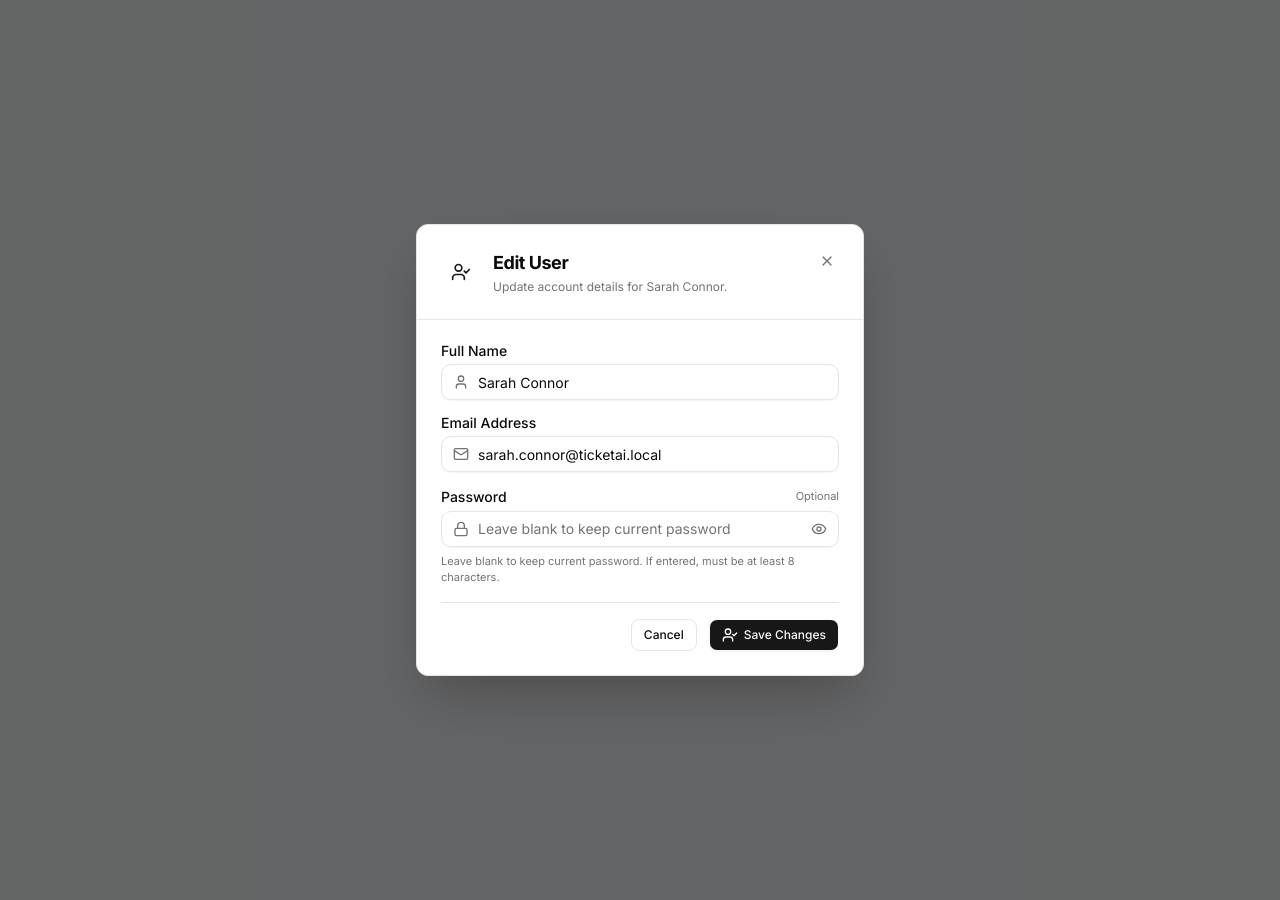
Scenario: EditUserModal Component Tests › 2. Form Validation Rules › shows error when password is typed but shorter than 8 characters
In the password field labelled "Password": [640, 529] box [441,511,839,547], type "12345"
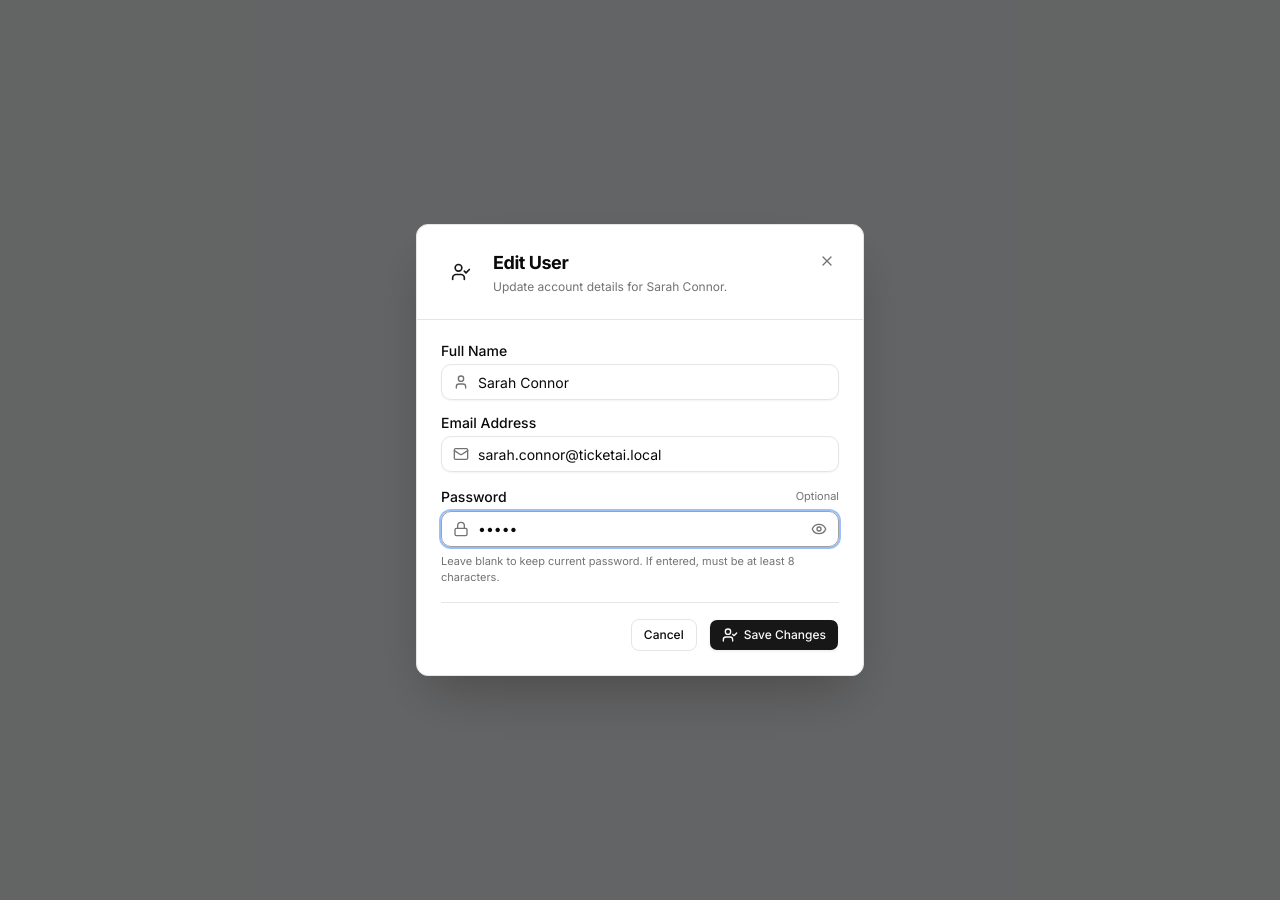
Click the button "Save Changes": [774, 635] box [709,619,839,651]
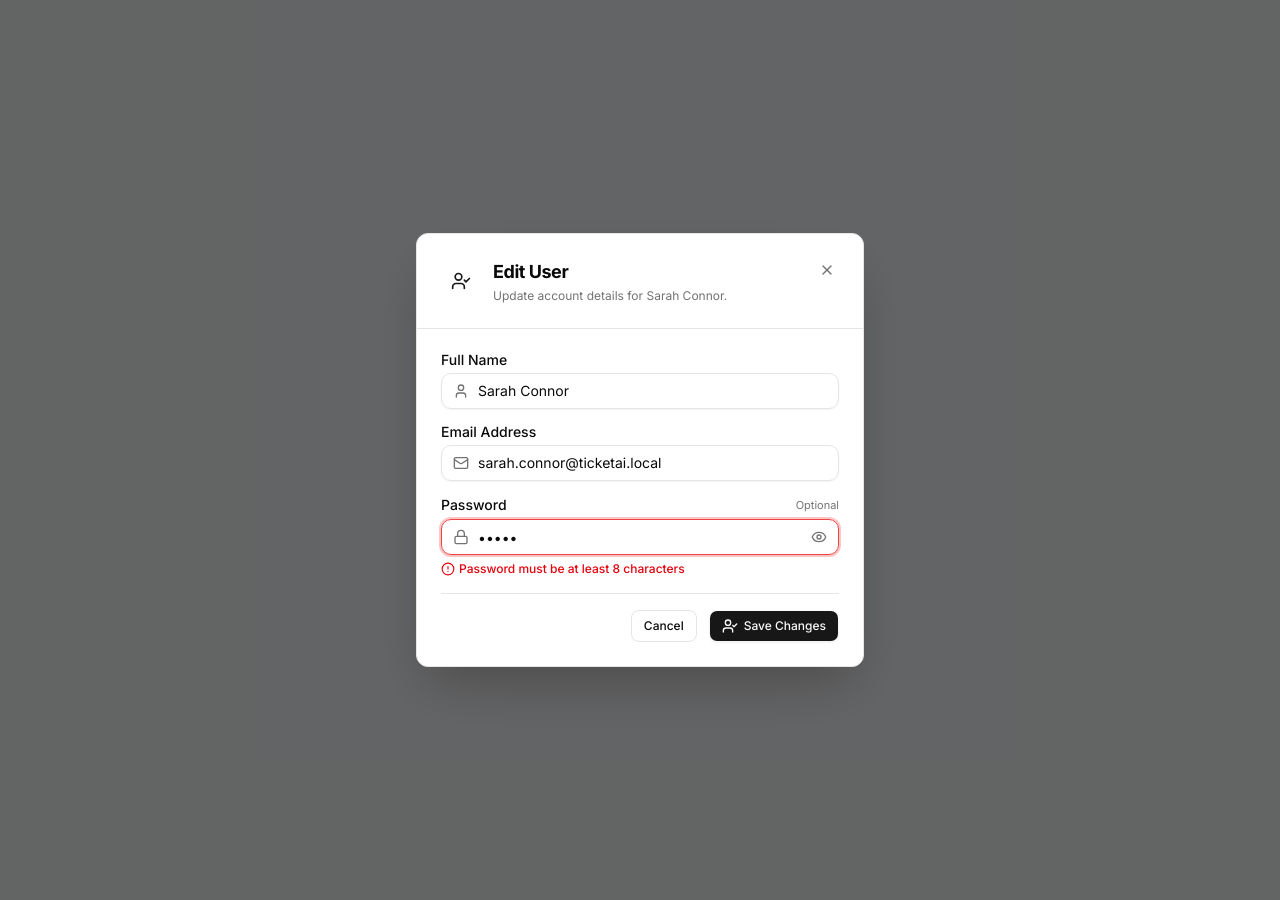
Now the text "Password must be at least 8 characters" is shown, box [459,561,685,577]
